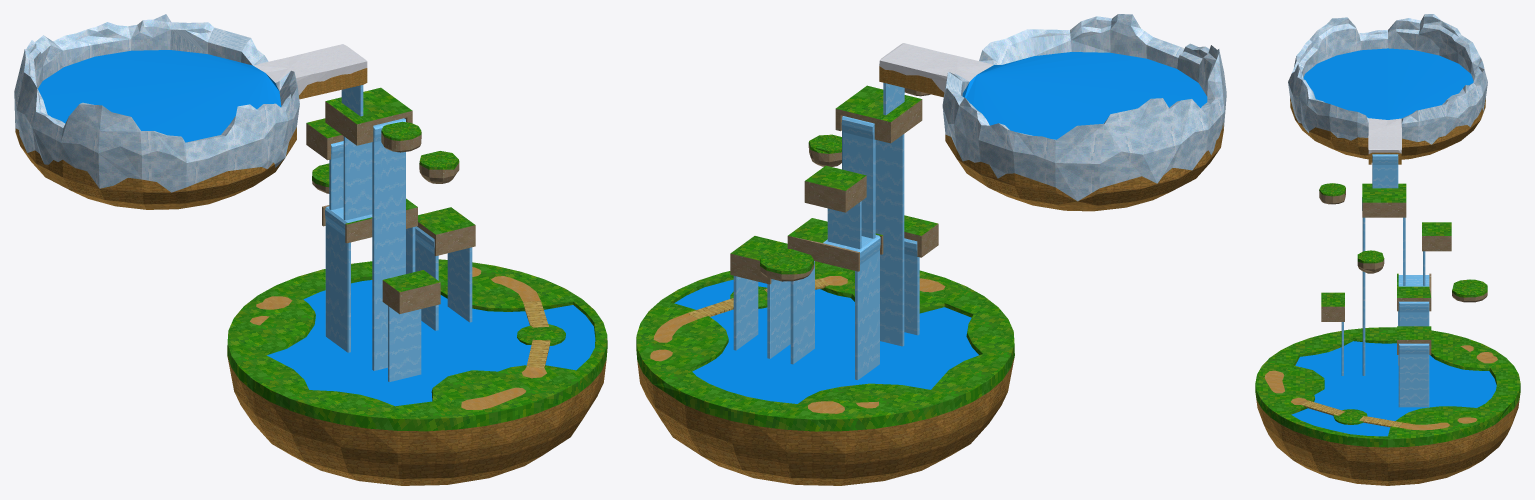
File: TwinFallLakePlanetLow.dae
The picture shows the model from 3 angles, left to right: view 1: azimuth 30°, elevation 25°; view 2: azimuth 150°, elevation 25°; view 3: azimuth 270°, elevation 25°; orthographic projection. The views are drawn at different scales.
Parts seen in each view (by area): view 1: m0, m3, m10, m5, m1, m4, m9, m8, m2, m6, m7; view 2: m3, m0, m10, m5, m1, m4, m9, m8, m2, m6; view 3: m10, m3, m0, m1, m4, m5, m8, m9, m2, m6, m7.
Part boxes in pixels (x1,y1,x2,y2): m0: (15, 68, 606, 485); m3: (14, 14, 299, 192); m10: (227, 259, 607, 431); m5: (325, 85, 472, 381); m1: (267, 280, 595, 406); m4: (38, 50, 281, 142); m9: (306, 101, 475, 314); m8: (307, 87, 474, 292); m2: (253, 44, 367, 94); m6: (250, 267, 546, 409); m7: (523, 301, 550, 367); m3: (942, 14, 1226, 201); m0: (637, 66, 1223, 485); m10: (636, 261, 1014, 431); m5: (733, 82, 919, 380); m1: (674, 279, 978, 403); m4: (962, 52, 1207, 139); m9: (730, 88, 938, 284); m8: (730, 85, 937, 274); m2: (879, 43, 993, 92); m6: (650, 276, 945, 413); m10: (1255, 327, 1520, 447); m3: (1288, 14, 1487, 144); m0: (1256, 98, 1519, 485); m1: (1291, 341, 1496, 436); m4: (1303, 48, 1473, 119); m5: (1341, 154, 1429, 407); m8: (1319, 183, 1487, 339); m9: (1319, 189, 1487, 354); m2: (1368, 118, 1401, 153); m6: (1264, 345, 1497, 430); m7: (1302, 400, 1403, 427).
Size of the model in its own units: 13932 by 11309 by 8354.
11 materials, 11 textured.
